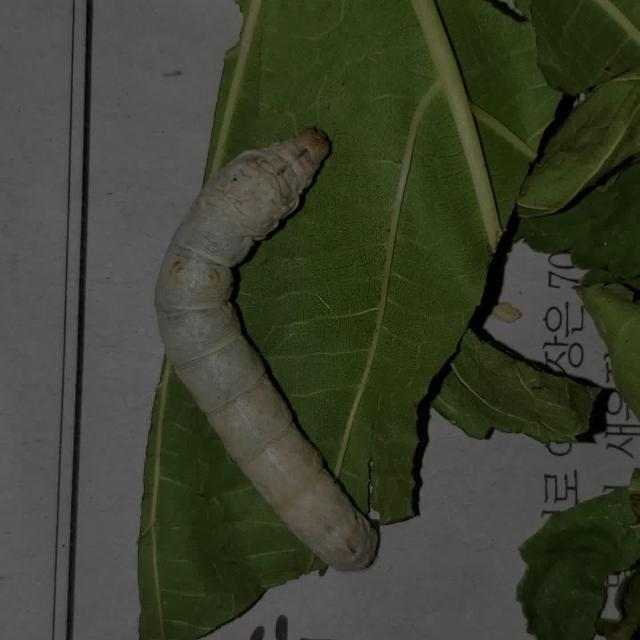Healthy: (143, 117, 398, 572)
